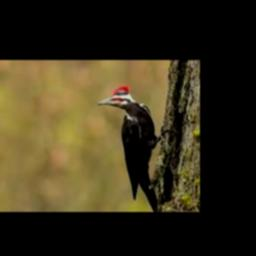Woodpecker: (98, 86, 173, 211)
